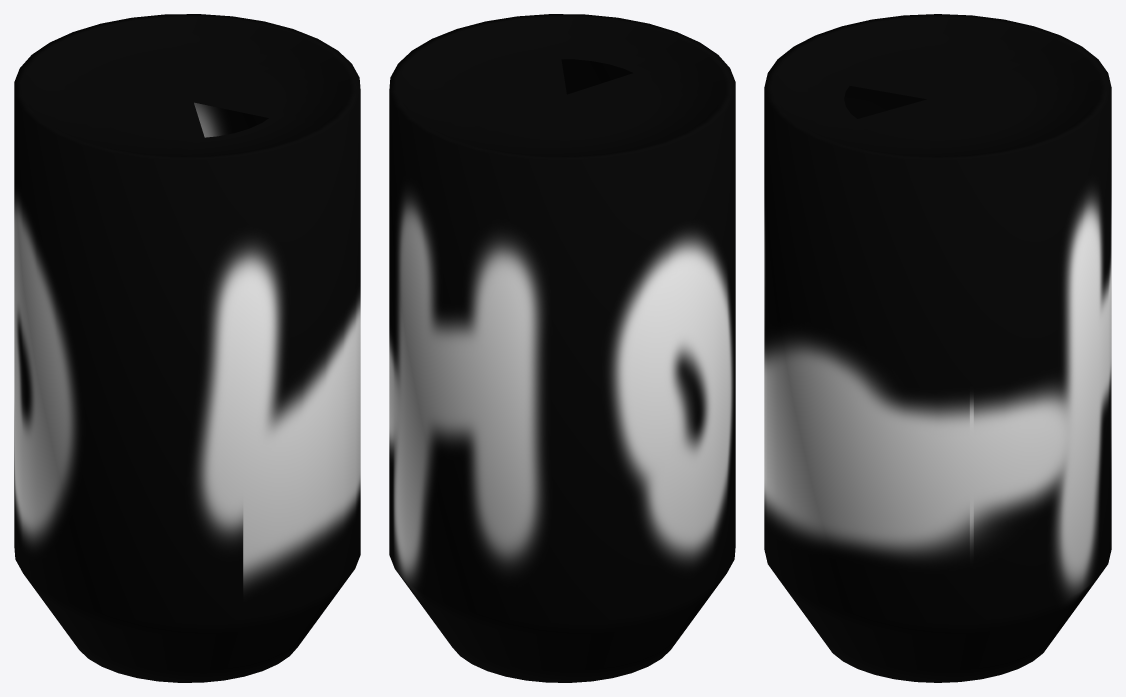
The picture shows the model from 3 angles, left to right: view 1: azimuth 30°, elevation 25°; view 2: azimuth 150°, elevation 25°; view 3: azimuth 270°, elevation 25°; orthographic projection.
Parts seen in each view (by area): view 1: Cylinder; view 2: Cylinder; view 3: Cylinder.
Part boxes in pixels (x1,y1,x2,y2): Cylinder: [14, 14, 360, 682]; Cylinder: [389, 14, 735, 682]; Cylinder: [764, 14, 1111, 682].
Size of the model in its own units: 2 by 3.48 by 2.
Materials: 1 (1 with a texture image).
